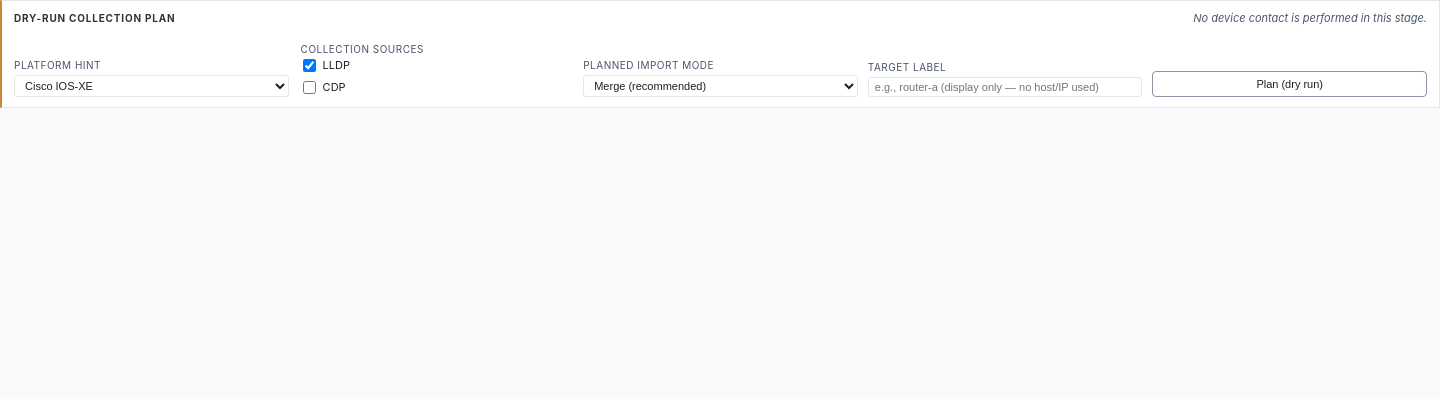
Test: LiveCollectionDryRunPanel — V1AU fixture simulator › renders no-fixture honest message when planned command has no fixture
Click the button with test id "tm-live-collection-plan-button": point(1290, 84) x1=1152 y1=71 x2=1427 y2=97
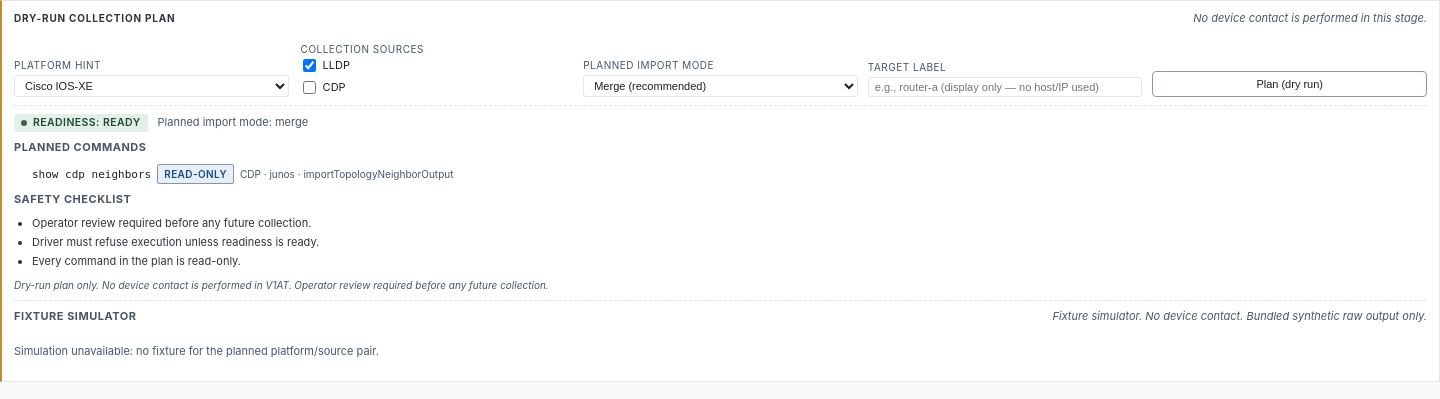
Now the text with test id "tm-live-simulator-no-fixture" is shown, box x1=14 y1=344 x2=379 y2=358
